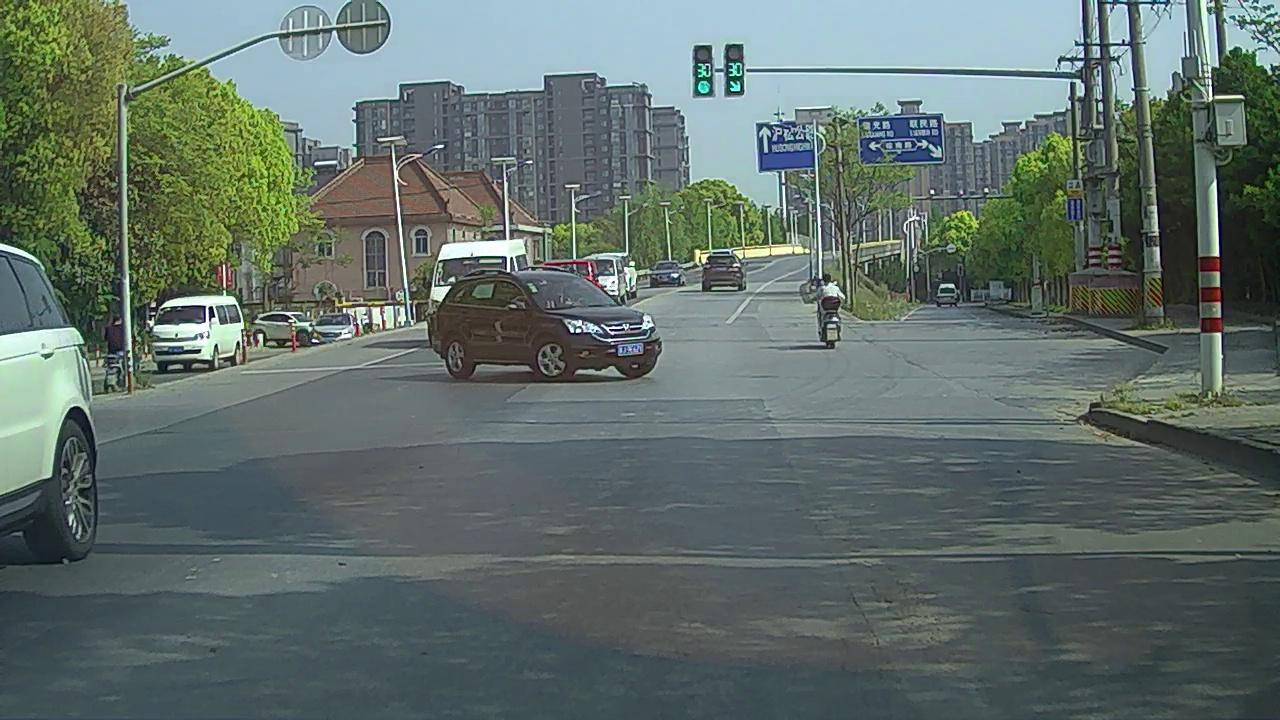traffic_light: (694, 47, 713, 96), (726, 41, 743, 95)
